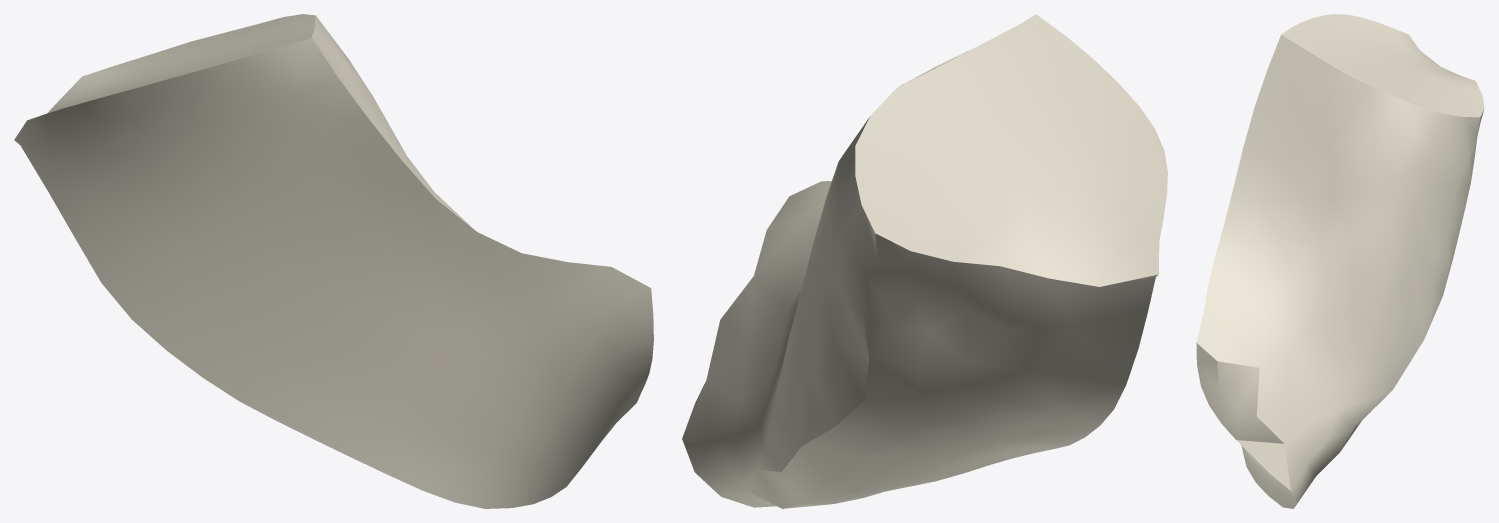
Rendered from fma16337_mm2331.glb.
3 renders of one model, left to right at view 1: azimuth 30°, elevation 25°; view 2: azimuth 150°, elevation 25°; view 3: azimuth 270°, elevation 25°, orthographic. The views are drawn at different scales.
Parts seen in each view (by area): view 1: FMA16337_MM2331; view 2: FMA16337_MM2331; view 3: FMA16337_MM2331.
Part boxes in pixels (x1,y1,x2,y2): FMA16337_MM2331: (14,14,653,508); FMA16337_MM2331: (682,14,1167,508); FMA16337_MM2331: (1196,14,1484,508).
Size of the model in its own units: 0.00838 by 0.00784 by 0.00539.
